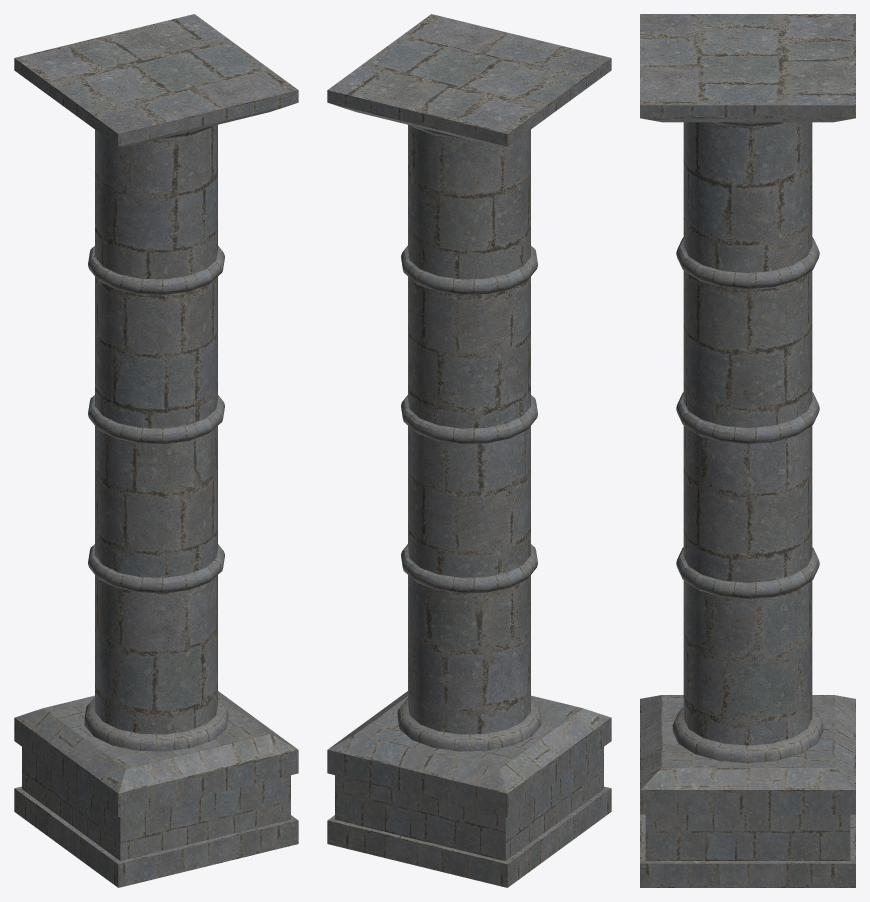
Rendered from Pillar.fbx.
3 views of the same model, side by side, from view 1: azimuth 30°, elevation 25°; view 2: azimuth 150°, elevation 25°; view 3: azimuth 270°, elevation 25° (orthographic). The views are drawn at different scales.
Visible parts, largest first — view 1: pCube5; view 2: pCube5; view 3: pCube5.
Part boxes in pixels (x1,y1,x2,y2): pCube5: [14, 14, 298, 887]; pCube5: [327, 14, 611, 887]; pCube5: [640, 14, 855, 887].
Size of the model in its own units: 75 by 300 by 75.
